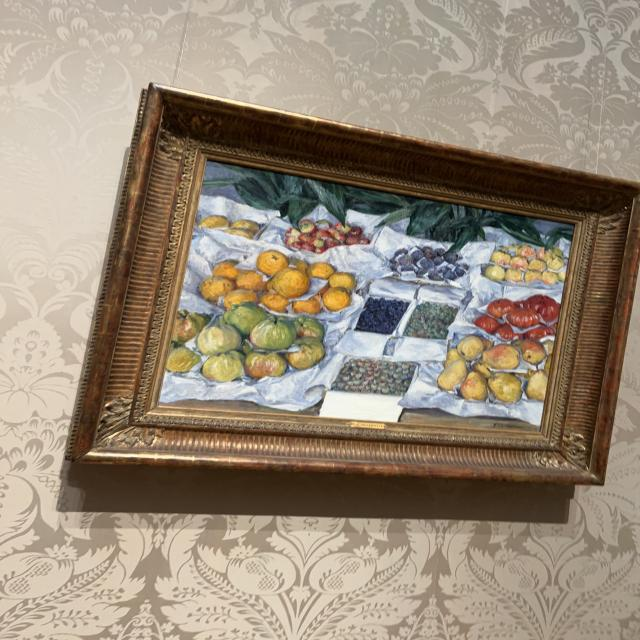fruits: (160, 160, 580, 432)
